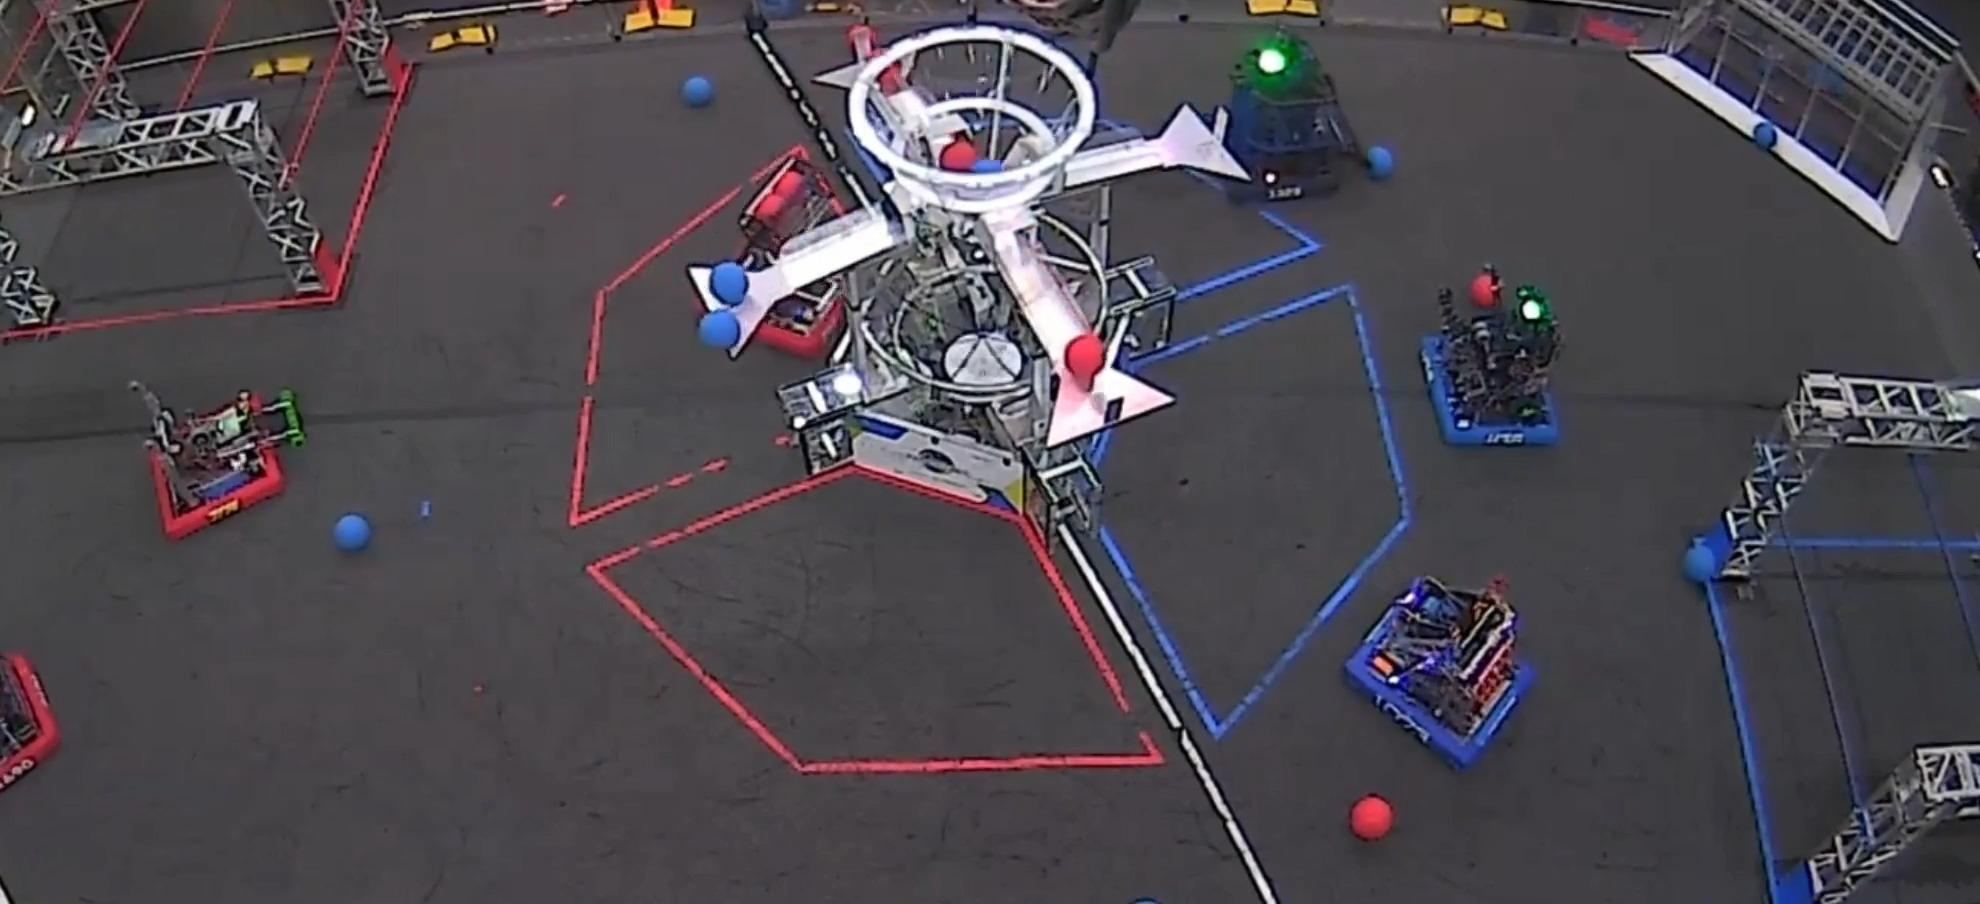Robots: (1347, 577, 1530, 766), (130, 381, 306, 538), (1225, 30, 1368, 201), (1424, 265, 1560, 444), (737, 157, 840, 270), (0, 654, 59, 788)
